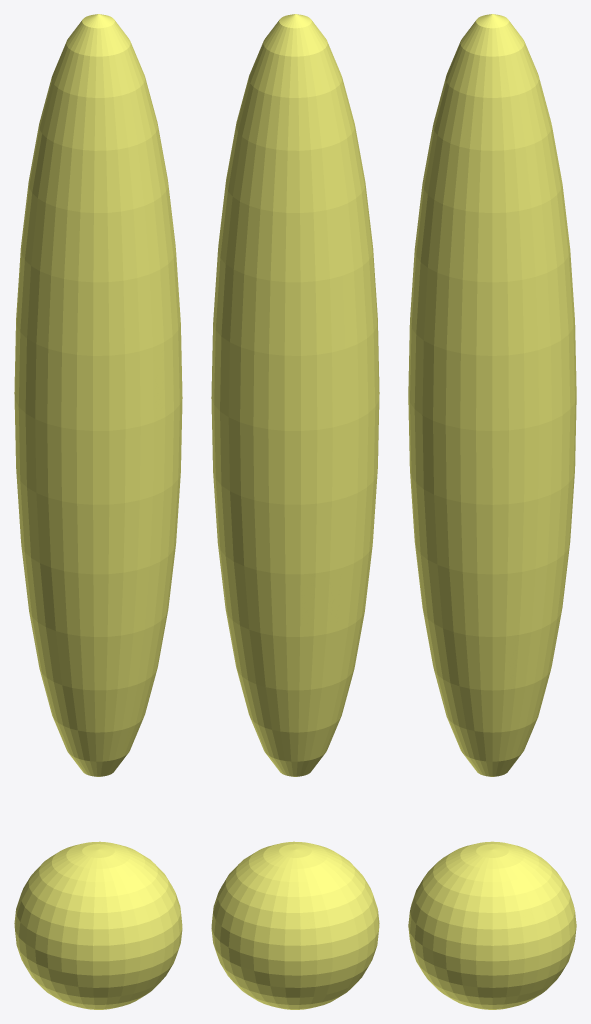
File: enemy_discover.obj
3 renders of one model, left to right at view 1: azimuth 30°, elevation 25°; view 2: azimuth 150°, elevation 25°; view 3: azimuth 270°, elevation 25°, orthographic.
Parts seen in each view (by area): view 1: 球體_球體.007, 球體.001_球體.008; view 2: 球體_球體.007, 球體.001_球體.008; view 3: 球體_球體.007, 球體.001_球體.008.
Boxes of the visible parts, x1,y1,x2,y2 form: 球體_球體.007: (14, 14, 182, 776); 球體.001_球體.008: (14, 841, 182, 1009); 球體_球體.007: (211, 14, 379, 776); 球體.001_球體.008: (211, 841, 379, 1009); 球體_球體.007: (408, 14, 576, 776); 球體.001_球體.008: (408, 841, 576, 1009).
Bounding box in the file's own units: 1 × 6.47 × 1.
Materials: 2 (2 with a texture image).
